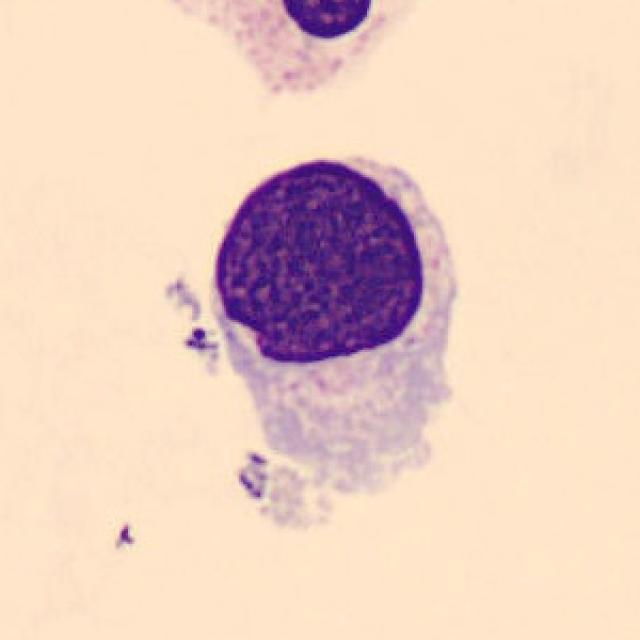WBC: (186, 147, 501, 531)
